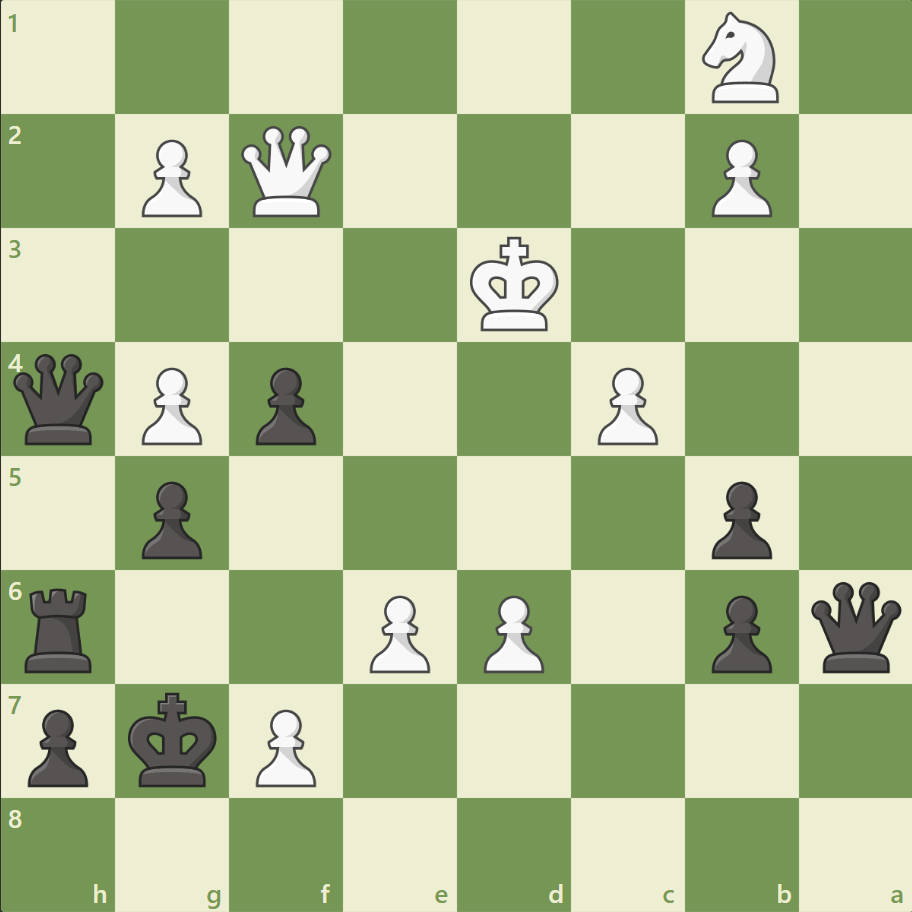K: (465, 231, 565, 339)
N: (692, 7, 789, 110)
P: (247, 700, 322, 791), (474, 586, 549, 677), (133, 359, 208, 450), (701, 132, 776, 223), (133, 132, 208, 223), (361, 586, 435, 677), (588, 359, 662, 450)
Q: (237, 122, 336, 222)
k: (124, 685, 224, 793)
p: (20, 700, 95, 791), (701, 586, 776, 677), (701, 473, 776, 564), (133, 473, 208, 564), (247, 359, 322, 450)
q: (805, 576, 904, 676), (10, 349, 109, 449)
r: (19, 579, 102, 676)
